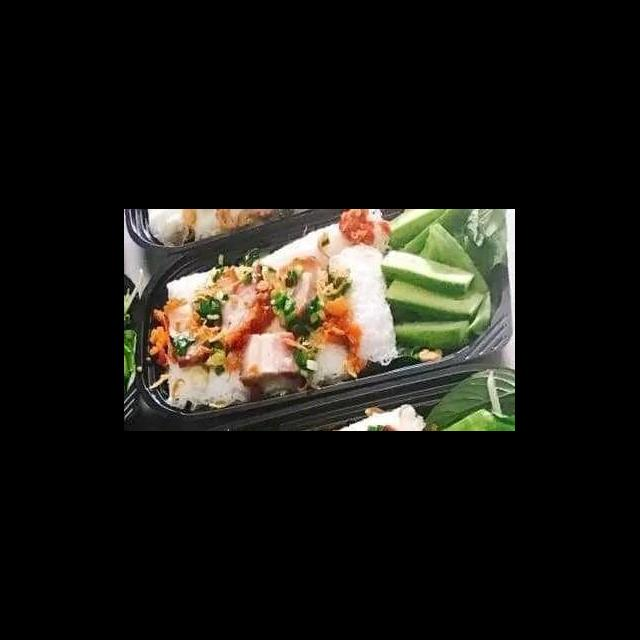banh hoi: (247, 210, 396, 288), (324, 239, 406, 368), (162, 264, 226, 415), (304, 318, 364, 393), (206, 343, 253, 408)
banh hoi heo quay: (137, 233, 514, 408)
thit heo quay: (214, 256, 278, 354), (266, 253, 324, 332), (234, 329, 306, 389), (164, 298, 220, 369)
